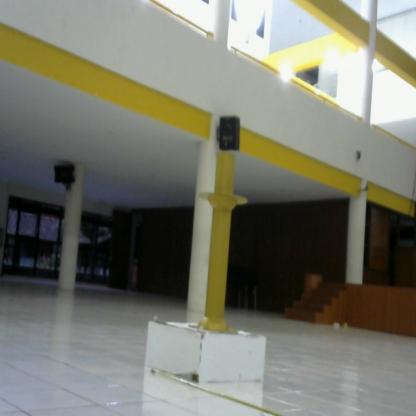pole: (195, 153, 251, 338)
